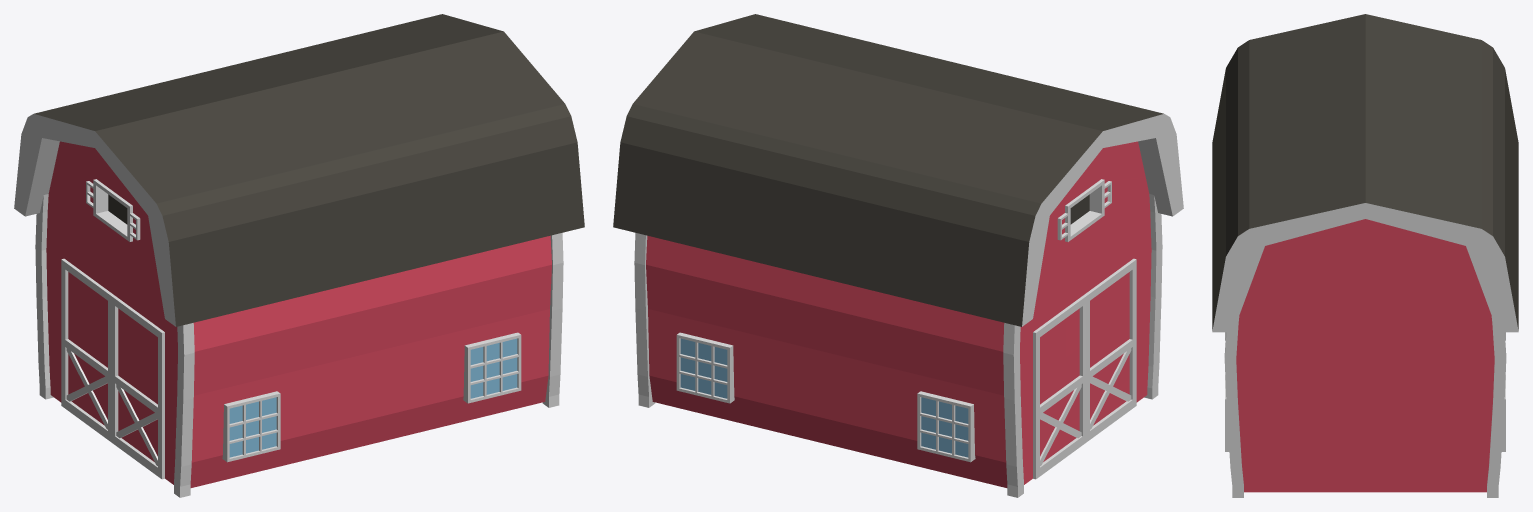
The model's file is Ahir.fbx.
3 renders of one model, left to right at view 1: azimuth 30°, elevation 25°; view 2: azimuth 150°, elevation 25°; view 3: azimuth 270°, elevation 25°, orthographic. The views are drawn at different scales.
Parts seen in each view (by area): view 1: Ahir; view 2: Ahir; view 3: Ahir.
Part boxes in pixels (x1,y1,x2,y2): Ahir: [14, 14, 584, 497]; Ahir: [613, 14, 1183, 497]; Ahir: [1212, 14, 1518, 497].
Bounding box in the file's own units: 2130 × 1588 × 1461.
